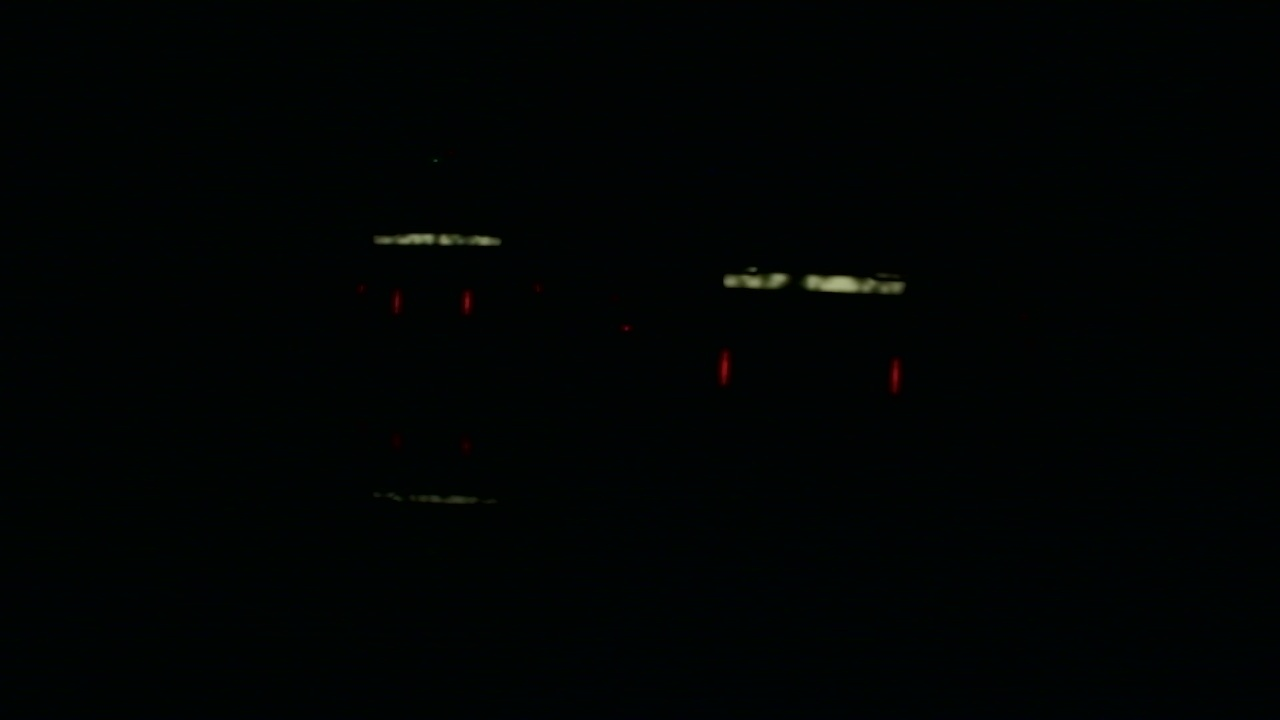lamp: (888, 348, 901, 388), (719, 348, 731, 386), (463, 291, 470, 306), (394, 292, 400, 307)
pair1: (394, 292, 470, 308)
pair2: (719, 348, 901, 393)
